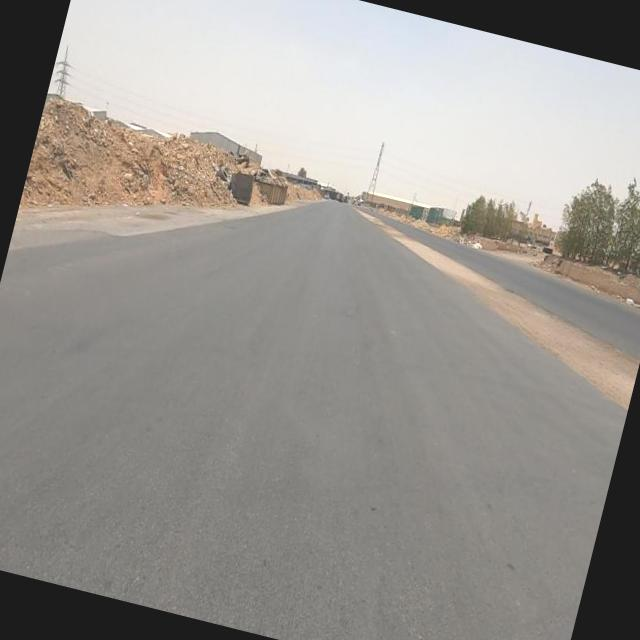debris: (215, 141, 272, 230), (438, 210, 508, 272), (192, 133, 248, 209), (597, 265, 640, 338)
